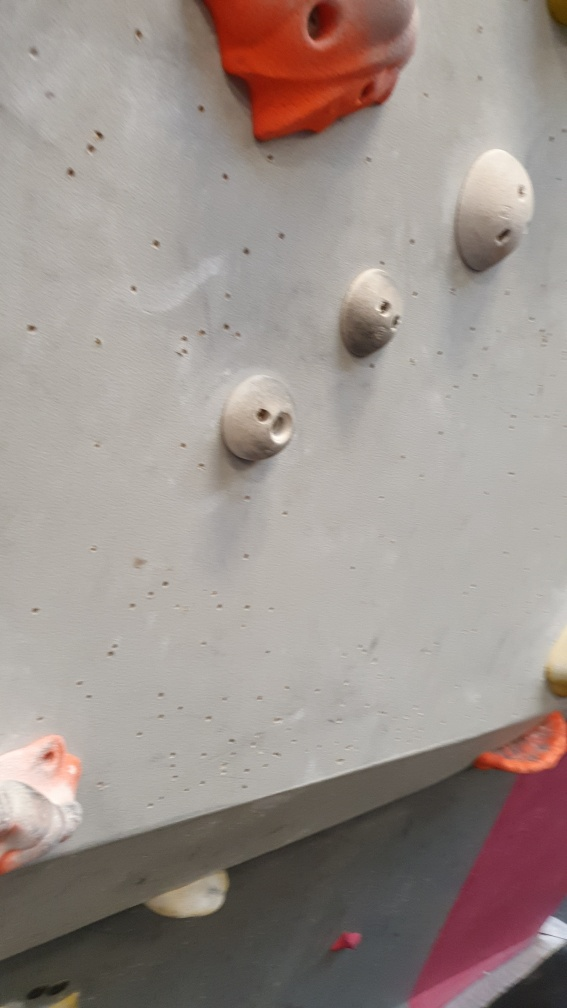Jug: (1, 727, 91, 885), (474, 705, 564, 774)
Sloper: (450, 139, 535, 276), (218, 371, 301, 467), (336, 267, 405, 365)
